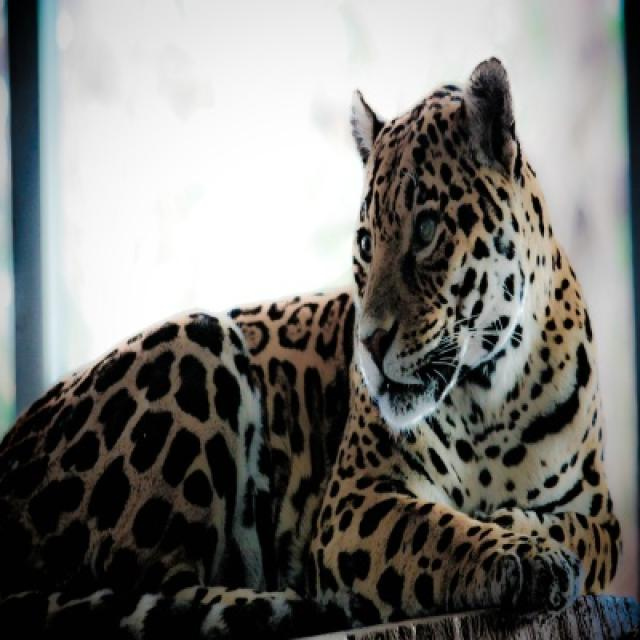Jaguar: (0, 58, 624, 638)
